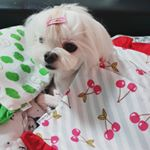puppy: (20, 2, 118, 81)
